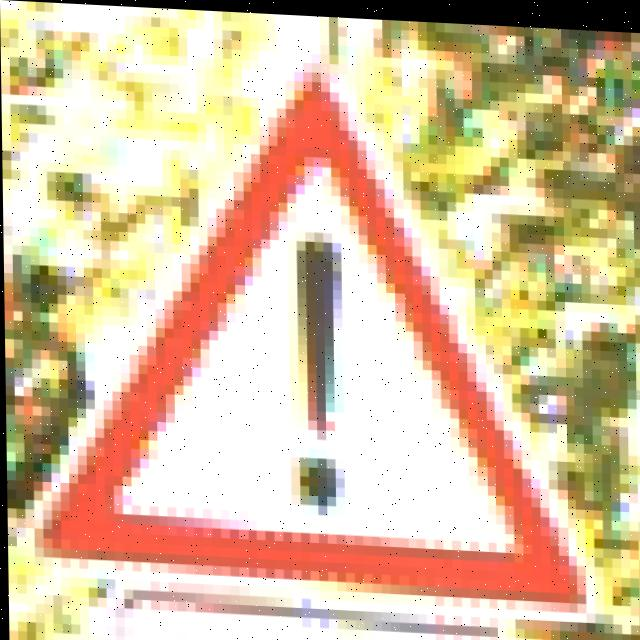warning: (20, 69, 608, 640)
